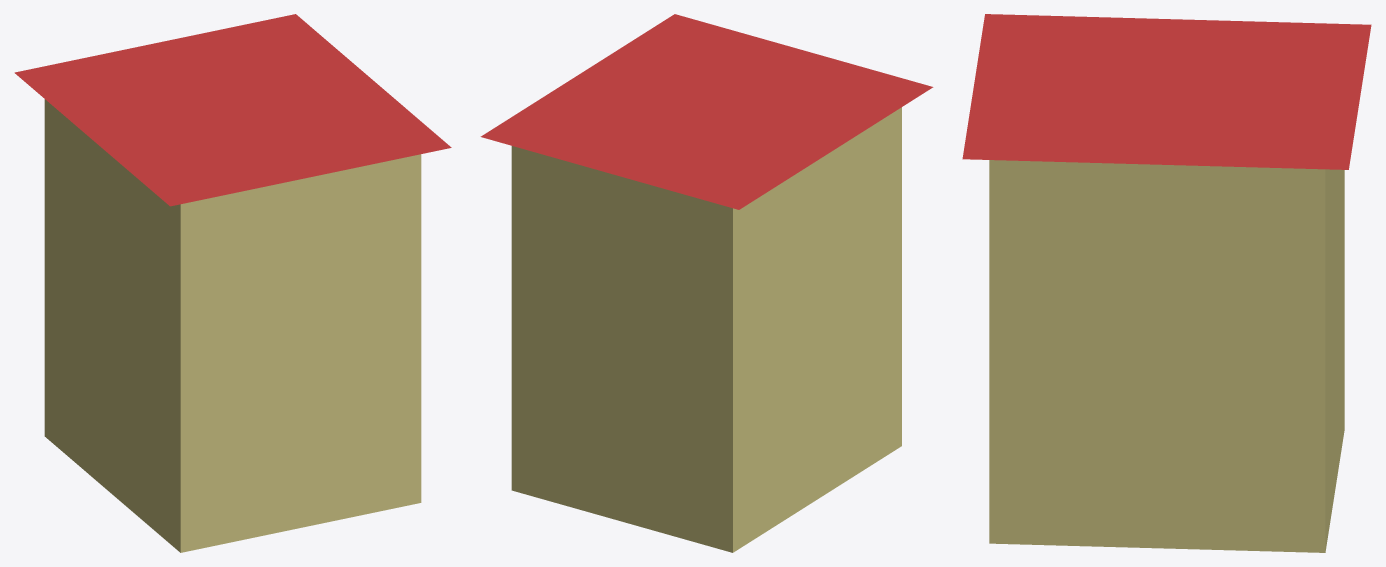
The picture shows the model from 3 angles, left to right: view 1: azimuth 30°, elevation 25°; view 2: azimuth 150°, elevation 25°; view 3: azimuth 270°, elevation 25°; orthographic projection. The views are drawn at different scales.
Bounding box in the file's own units: 7.35 × 8.15 × 8.66.
